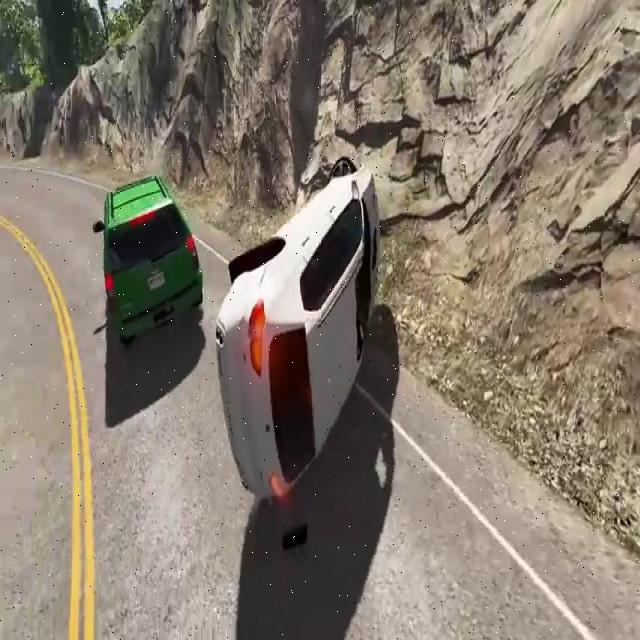severe: (212, 147, 382, 510)
